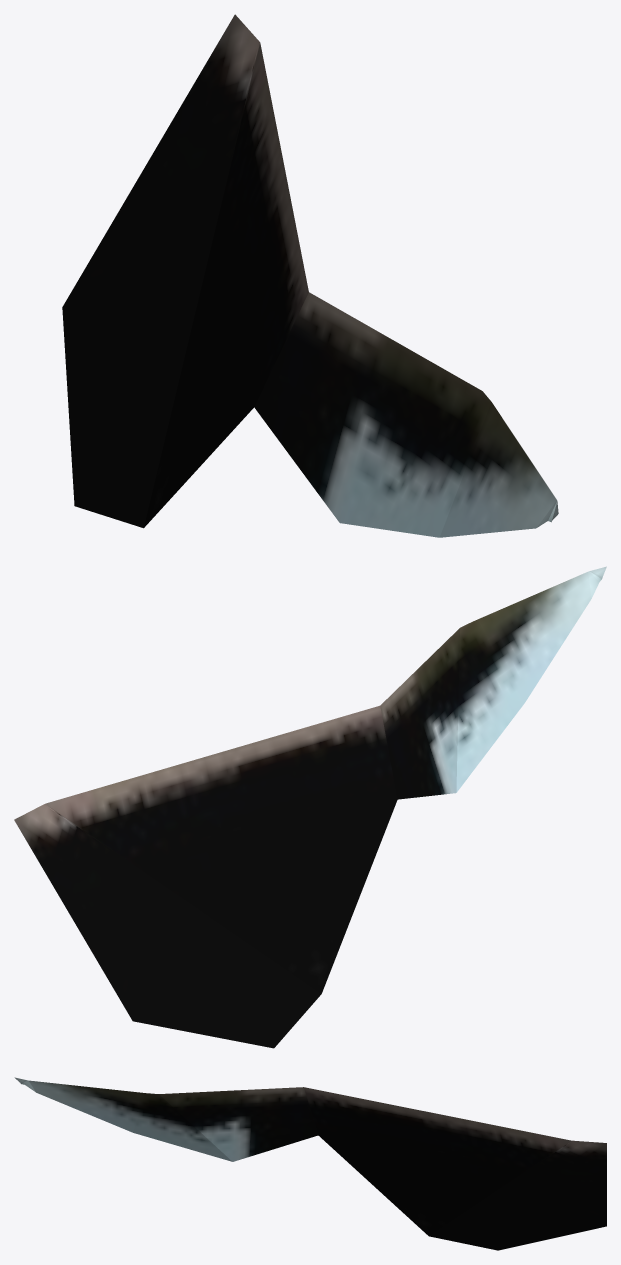
3 renders of one model, top to bottom at view 1: azimuth 30°, elevation 25°; view 2: azimuth 150°, elevation 25°; view 3: azimuth 270°, elevation 25°, orthographic. The views are drawn at different scales.
Bounding box in the file's own units: 0.3657 × 0.4496 × 1.39.
Materials: 1 (1 with a texture image).
